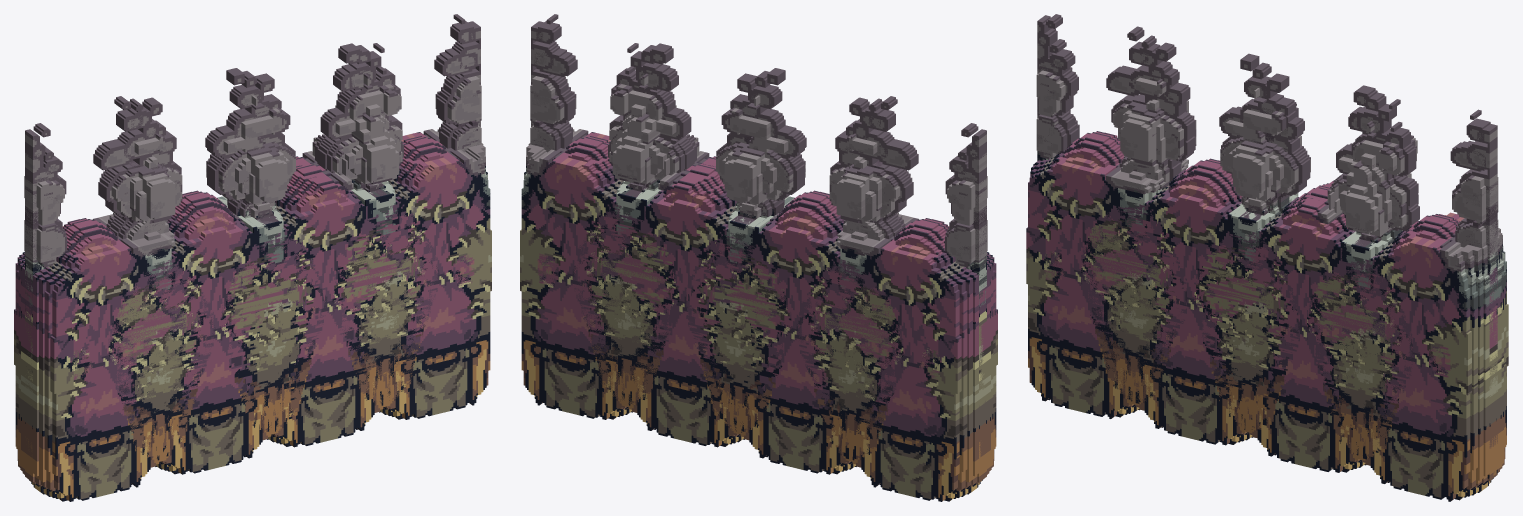
File: oficina_nivel2.glb
3 renders of one model, left to right at view 1: azimuth 30°, elevation 25°; view 2: azimuth 150°, elevation 25°; view 3: azimuth 330°, elevation 25°, orthographic.
Parts seen in each view (by area): view 1: q1, q0, q2, q4, q5, q3, q7, q8, q10, q6, q9, q11; view 2: q1, q0, q2, q4, q5, q3, q7, q8, q10, q6, q9, q11; view 3: q1, q0, q2, q4, q5, q3, q7, q8, q10, q6, q11, q9.
Part boxes in pixels (left/top/right/bottom): q1: left=14, top=21, right=491, bottom=501; q0: left=108, top=71, right=474, bottom=474; q2: left=24, top=43, right=439, bottom=479; q4: left=62, top=14, right=490, bottom=484; q5: left=24, top=43, right=412, bottom=313; q3: left=206, top=68, right=300, bottom=431; q7: left=105, top=41, right=481, bottom=402; q8: left=24, top=62, right=402, bottom=399; q10: left=62, top=21, right=484, bottom=487; q6: left=222, top=94, right=291, bottom=222; q9: left=205, top=86, right=284, bottom=225; q11: left=25, top=45, right=396, bottom=393; q1: left=520, top=21, right=997, bottom=501; q0: left=537, top=71, right=903, bottom=474; q2: left=572, top=43, right=987, bottom=479; q4: left=521, top=14, right=951, bottom=484; q5: left=599, top=43, right=987, bottom=314; q3: left=713, top=68, right=805, bottom=426; q7: left=530, top=41, right=906, bottom=403; q8: left=609, top=62, right=987, bottom=399; q10: left=526, top=21, right=948, bottom=486; q6: left=720, top=94, right=789, bottom=224; q9: left=727, top=86, right=806, bottom=221; q11: left=615, top=45, right=986, bottom=398; q1: left=1026, top=35, right=1508, bottom=500; q0: left=1081, top=62, right=1497, bottom=478; q2: left=1036, top=28, right=1418, bottom=472; q4: left=1048, top=26, right=1506, bottom=501; q5: left=1036, top=14, right=1419, bottom=287; q3: left=1220, top=53, right=1310, bottom=429; q7: left=1115, top=65, right=1498, bottom=499; q8: left=1036, top=39, right=1418, bottom=458; q10: left=1051, top=43, right=1500, bottom=498; q6: left=1231, top=98, right=1306, bottom=220; q11: left=1037, top=15, right=1390, bottom=441; q9: left=1219, top=76, right=1299, bottom=219.
Size of the model in its own units: 256 by 206 by 40.
Materials: 1 (1 with a texture image).
